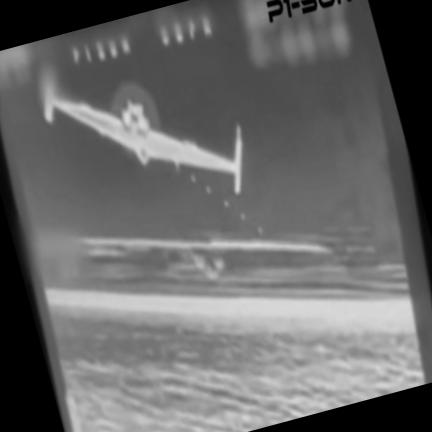Shahed: (43, 74, 244, 194)
